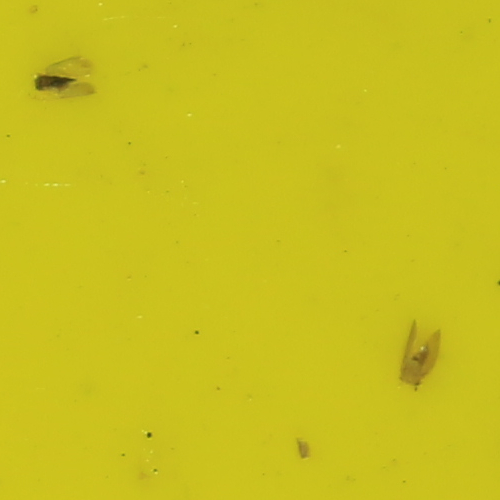Platyobria: (399, 343, 433, 389)
psylla: (32, 73, 75, 90)
